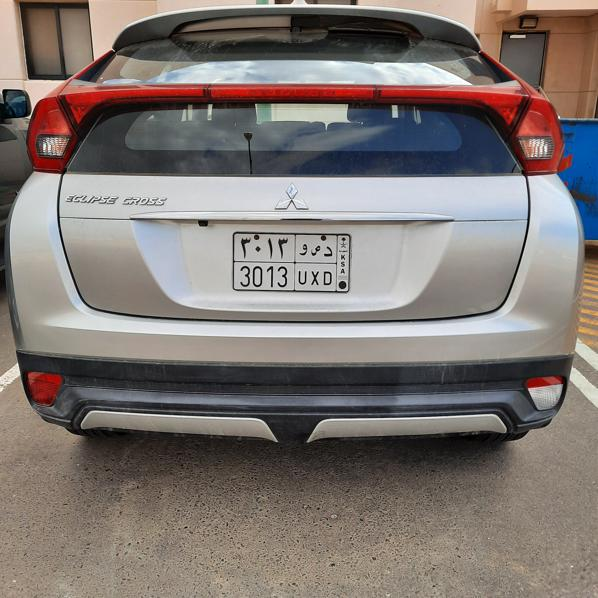numberplate: (234, 233, 352, 292)
